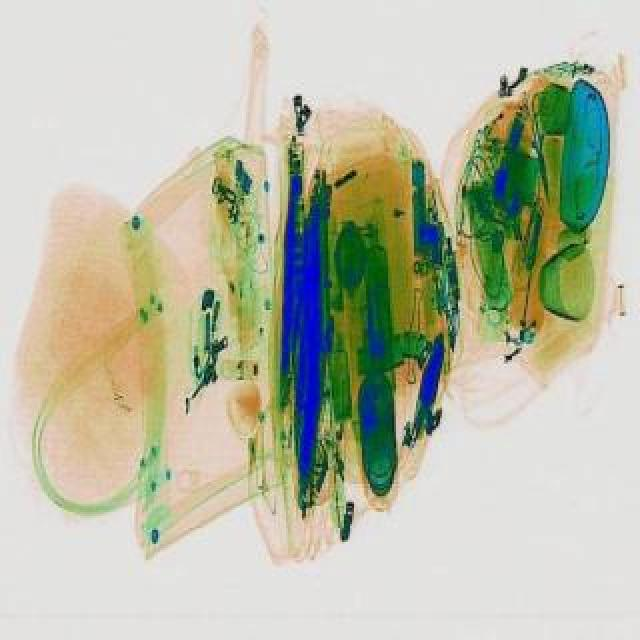knife: (524, 118, 558, 212)
